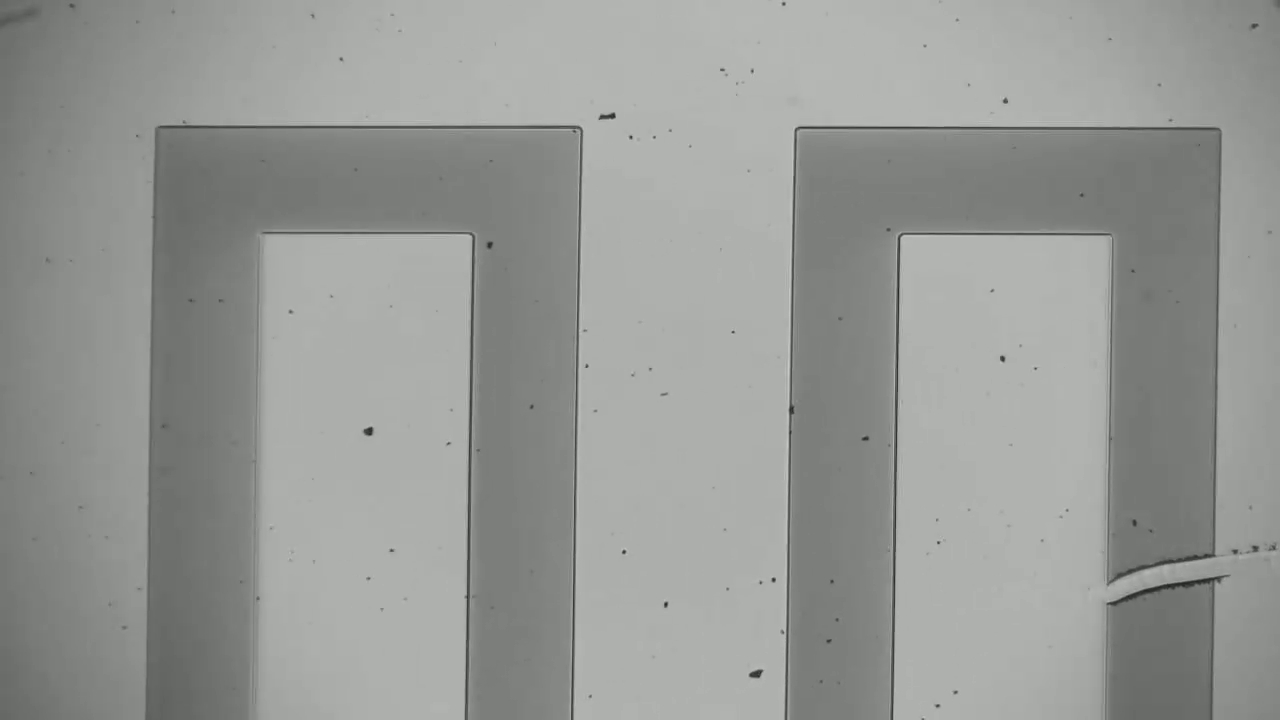Short_circuit: (1069, 542, 1242, 619)
